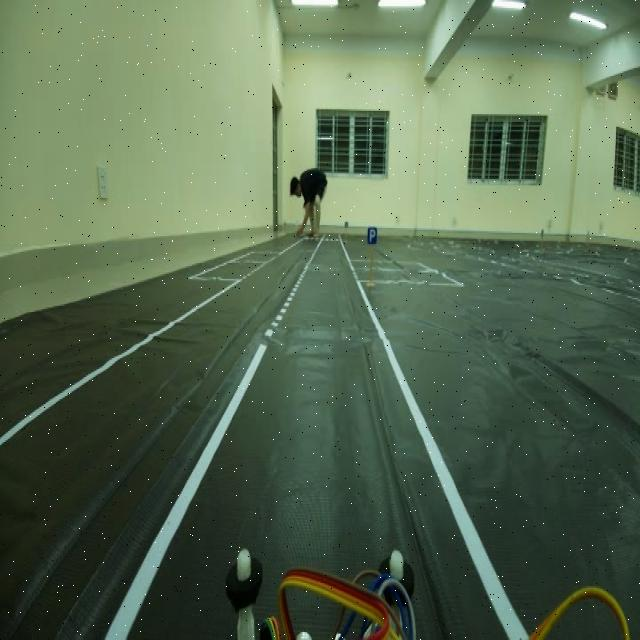parking: (366, 221, 379, 251)
